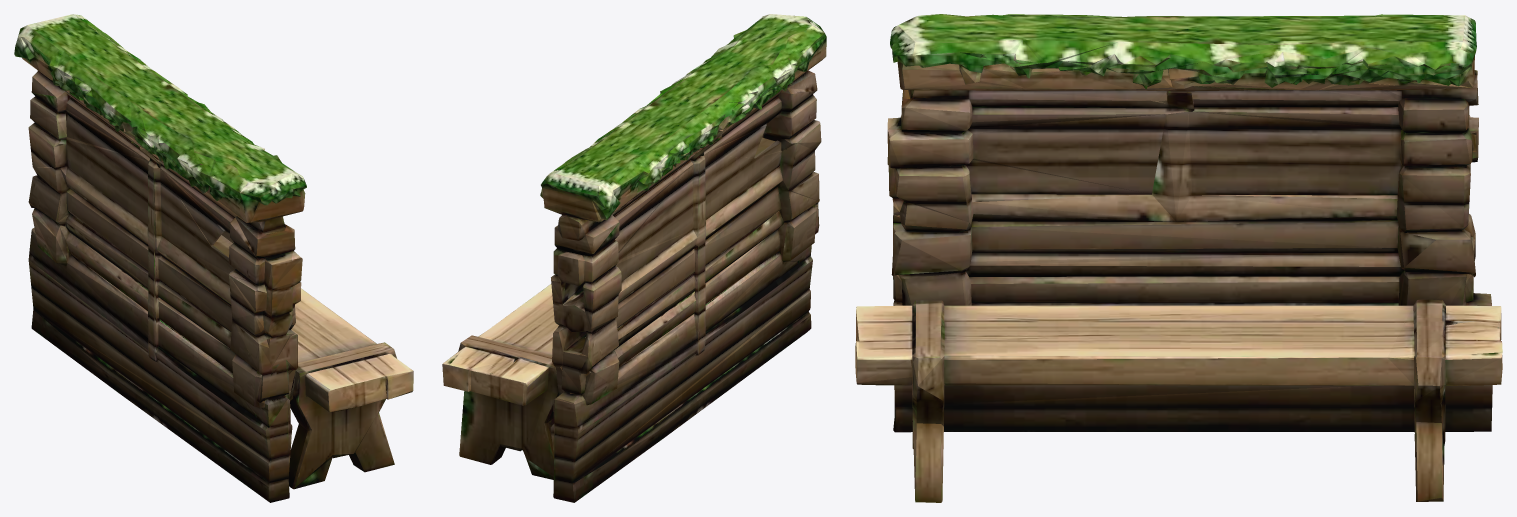
The model's file is prop_bench_wood_01.glb.
3 renders of one model, left to right at view 1: azimuth 30°, elevation 25°; view 2: azimuth 150°, elevation 25°; view 3: azimuth 270°, elevation 25°, orthographic. The views are drawn at different scales.
Visible parts, largest first — view 1: geometry_0; view 2: geometry_0; view 3: geometry_0.
Boxes of the visible parts, x1,y1,x2,y2 form: geometry_0: (14,14,413,502); geometry_0: (442,14,826,502); geometry_0: (855,14,1502,502).
Bounding box in the file's own units: 0.3812 × 0.6812 × 0.9983.
Materials: 1 (1 with a texture image).
